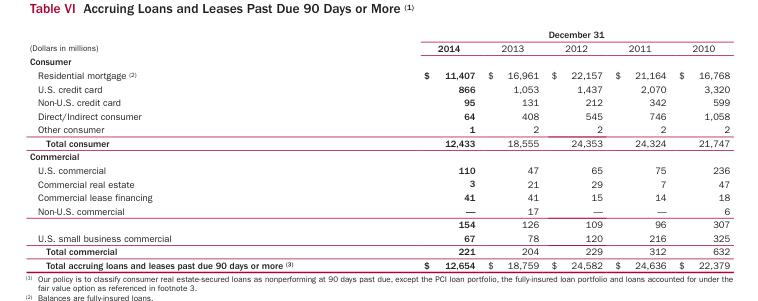table: (28, 28, 729, 270)
table column: (28, 28, 357, 270), (357, 28, 480, 270), (480, 28, 544, 270), (544, 28, 608, 270), (608, 28, 671, 270), (671, 28, 729, 270)
table column header: (28, 28, 729, 54)
table projected row header: (28, 54, 729, 67), (28, 149, 729, 162)
table row: (28, 40, 729, 54), (28, 67, 729, 81), (28, 81, 729, 95), (28, 108, 729, 122), (28, 135, 729, 149), (28, 162, 729, 176), (28, 176, 729, 190), (28, 203, 729, 217), (28, 230, 729, 244), (28, 54, 729, 67), (28, 95, 729, 108), (28, 122, 729, 135), (28, 149, 729, 162), (28, 190, 729, 203), (28, 217, 729, 230), (28, 244, 729, 257), (28, 257, 729, 270), (28, 28, 729, 40)
table spanning cell: (28, 28, 357, 54), (357, 28, 729, 40)
